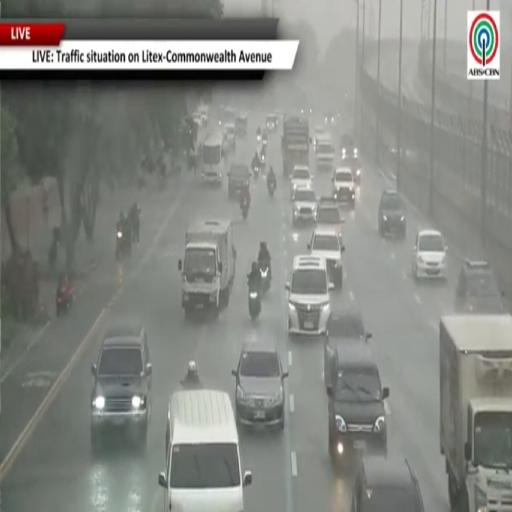car: (91, 324, 151, 450), (328, 342, 389, 463), (232, 343, 288, 429), (351, 456, 424, 511), (324, 310, 372, 389), (286, 255, 333, 334), (456, 260, 506, 314), (308, 228, 344, 289), (412, 230, 447, 280), (378, 189, 406, 238), (316, 198, 344, 237), (292, 187, 317, 226), (332, 168, 355, 207), (228, 164, 250, 198), (290, 166, 312, 198), (315, 134, 334, 171), (342, 154, 361, 184), (312, 126, 327, 151), (224, 123, 236, 151), (341, 134, 357, 155), (219, 107, 235, 126), (235, 114, 247, 137), (266, 114, 278, 133), (198, 105, 209, 125), (324, 112, 337, 124), (301, 107, 312, 116)
motorcycle: (56, 284, 74, 316), (116, 229, 131, 259), (249, 286, 261, 319), (259, 262, 270, 295), (268, 180, 276, 198), (242, 203, 248, 219), (261, 153, 266, 172), (253, 166, 259, 179), (262, 137, 267, 147), (257, 135, 261, 143)
truck: (439, 314, 511, 511), (179, 219, 236, 315), (282, 117, 310, 177), (200, 130, 224, 185), (315, 134, 335, 171)
